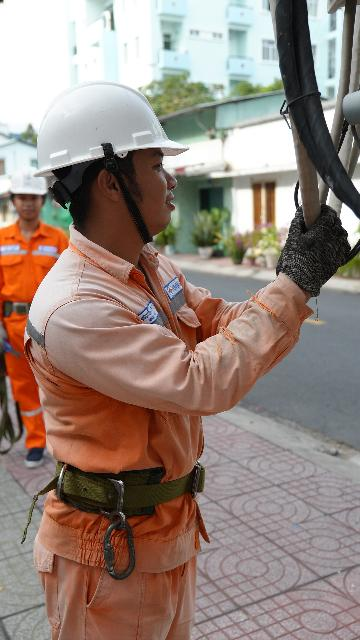gloves: (259, 178, 347, 292)
harness: (30, 432, 218, 531)
helmet: (18, 58, 202, 196)
